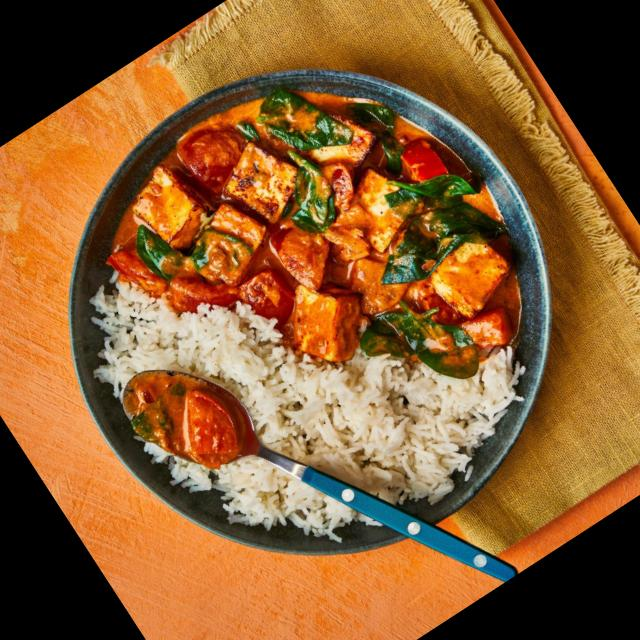rice: (274, 356, 452, 534)
